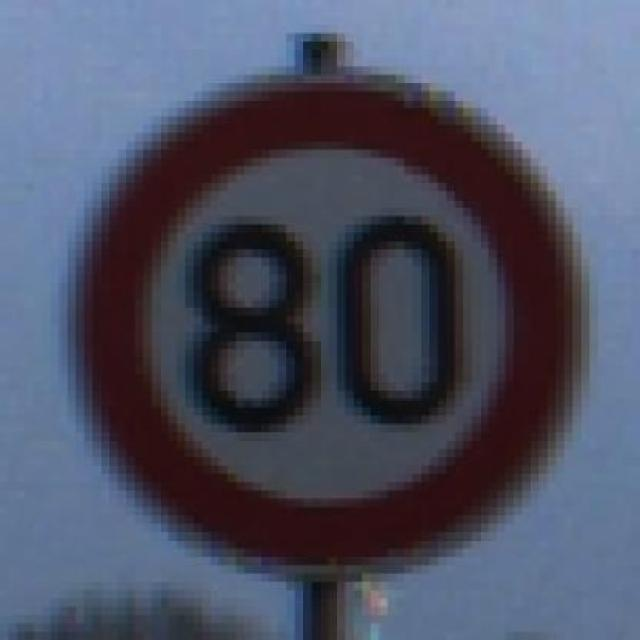forb_speed_over_80: (87, 82, 576, 568)
